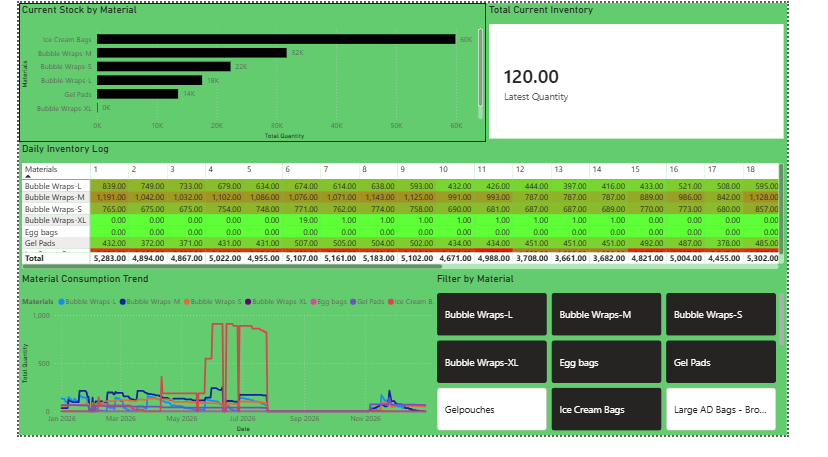

This screenshot's page, from the dashboard's own definition file:
{"tool":"powerbi","page":{"name":"Page 1","canvas":[1280,720],"ordinal":0},"visuals":[{"type":"lineChart","title":"\tMaterial Consumption Trend","fields":{"Category":["RDC SOP-KSA - Inventory - HJX3-Jeddah.Date"],"Y":["RDC SOP-KSA - Inventory - HJX3-Jeddah.Total Quantity"],"Series":["RDC SOP-KSA - Inventory - HJX3-Jeddah.Materials"]},"box":[0,448.3,708.3,271.7],"z":0},{"type":"advancedSlicerVisual","title":"\tFilter by Material","fields":{"Values":["RDC SOP-KSA - Inventory - HJX3-Jeddah.Materials"]},"box":[691.7,448.3,588.3,271.7],"z":1000},{"type":"clusteredBarChart","title":"\tCurrent Stock by Material","fields":{"Category":["RDC SOP-KSA - Inventory - HJX3-Jeddah.Materials"],"Y":["RDC SOP-KSA - Inventory - HJX3-Jeddah.Total Quantity"]},"box":[0,0,778.3,231.7],"z":2000},{"type":"cardVisual","title":"\tTotal Current Inventory","fields":{"Data":["RDC SOP-KSA - Inventory - HJX3-Jeddah.Latest Quantity"]},"box":[778.3,0,501.7,231.7],"z":3000},{"type":"pivotTable","title":"Daily Inventory Log","fields":{"Rows":["RDC SOP-KSA - Inventory - HJX3-Jeddah.Materials"],"Values":["RDC SOP-KSA - Inventory - HJX3-Jeddah.Total Quantity"],"Columns":["RDC SOP-KSA - Inventory - HJX3-Jeddah.Date.Variation.Date Hierarchy.Day"]},"box":[0,231.7,1280,216.7],"z":4000}]}

Visuals, with their boxes in screenshot pixels (x1, y1, x2, y2), scaled from the page's 1280x720 canvas onto the 828x457 screenshot:
"	Material Consumption Trend" lineChart: x1=0, y1=285, x2=458, y2=456
"	Filter by Material" advancedSlicerVisual: x1=447, y1=285, x2=827, y2=456
"	Current Stock by Material" clusteredBarChart: x1=0, y1=0, x2=503, y2=147
"	Total Current Inventory" cardVisual: x1=503, y1=0, x2=827, y2=147
"Daily Inventory Log" pivotTable: x1=0, y1=147, x2=827, y2=285
